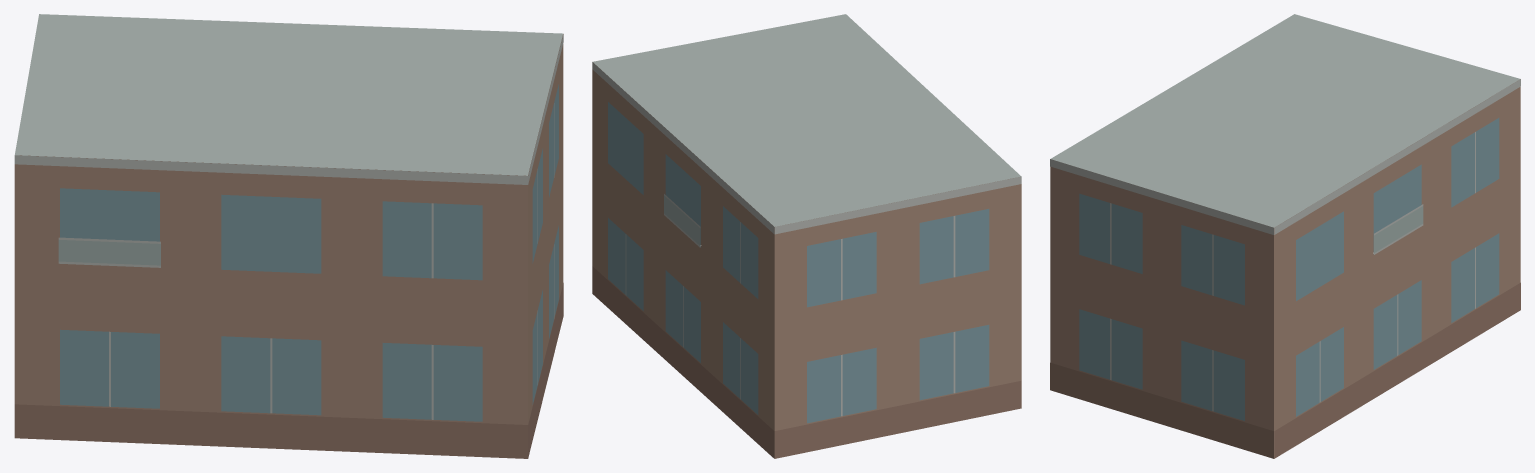
Rendered from survey-upis-32543485.glb.
3 views of the same model, side by side, from view 1: azimuth 30°, elevation 25°; view 2: azimuth 150°, elevation 25°; view 3: azimuth 270°, elevation 25° (orthographic). The views are drawn at different scales.
Visible parts, largest first — view 1: survey-upis-32543485.tmp; view 2: survey-upis-32543485.tmp; view 3: survey-upis-32543485.tmp.
Part boxes in pixels (left/top/right/bottom): survey-upis-32543485.tmp: left=14, top=14, right=563, bottom=458; survey-upis-32543485.tmp: left=592, top=14, right=1021, bottom=458; survey-upis-32543485.tmp: left=1050, top=14, right=1520, bottom=458.
Size of the model in its own units: 14.88 by 7.5 by 13.84.
